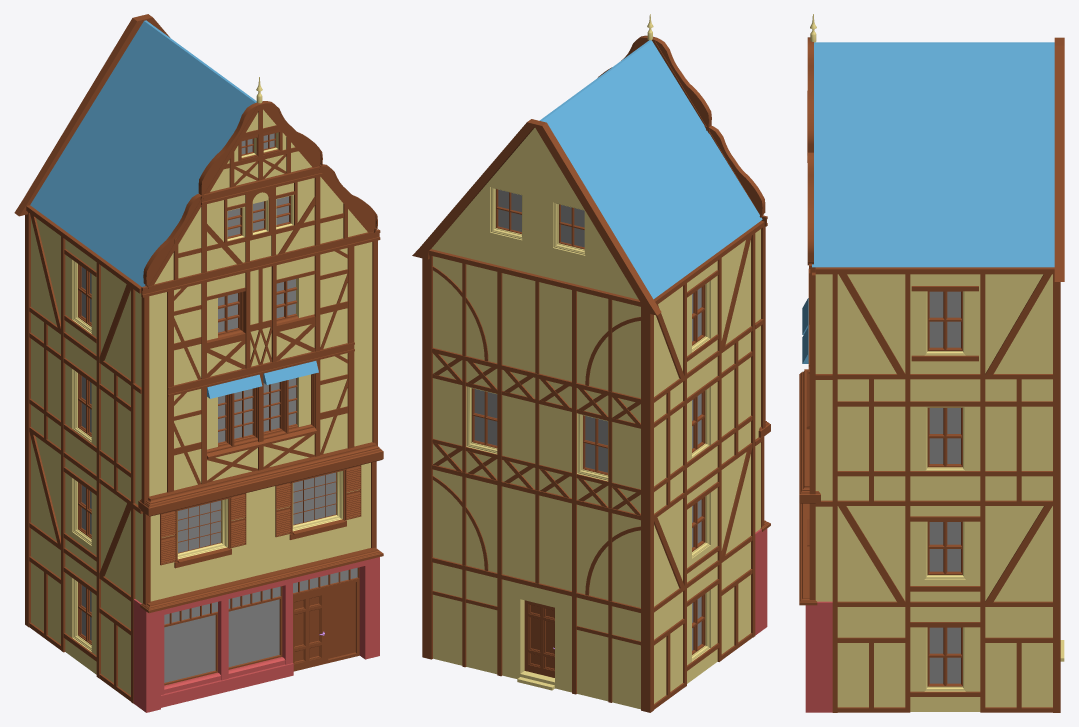
The model's file is muwu10.FBX.
3 views of the same model, side by side, from view 1: azimuth 30°, elevation 25°; view 2: azimuth 150°, elevation 25°; view 3: azimuth 270°, elevation 25° (orthographic). The views are drawn at different scales.
Visible parts, largest first — view 1: HouseMD06_PlasterYellow, HouseMD06_Wood_Beams, HouseMD06_RoofTiles, HouseMD06_Glass, HouseMD06_WoodDark (×2), HouseMD06_Stone_Stacked, HouseMD06_Mullions_Wood, HouseMD06_Cloth; view 2: HouseMD06_PlasterYellow, HouseMD06_Wood_Beams, HouseMD06_RoofTiles, HouseMD06_Glass, HouseMD06_Mullions_Wood, HouseMD06_WoodDark, HouseMD06_Stone_Stacked; view 3: HouseMD06_PlasterYellow, HouseMD06_RoofTiles, HouseMD06_Wood_Beams, HouseMD06_Glass, HouseMD06_Mullions_Wood, HouseMD06_Stone_Stacked, HouseMD06_Cloth.
Part boxes in pixels (<box>): HouseMD06_PlasterYellow: <box>31,77,372,695</box>; HouseMD06_Wood_Beams: <box>14,14,383,703</box>; HouseMD06_RoofTiles: <box>30,20,256,286</box>; HouseMD06_Glass: <box>81,133,357,682</box>; HouseMD06_WoodDark (×2): <box>160,291,361,685</box>; HouseMD06_Stone_Stacked: <box>133,557,379,712</box>; HouseMD06_Mullions_Wood: <box>78,133,336,644</box>; HouseMD06_Cloth: <box>207,361,318,398</box>; HouseMD06_PlasterYellow: <box>431,14,760,709</box>; HouseMD06_Wood_Beams: <box>412,35,770,712</box>; HouseMD06_RoofTiles: <box>539,40,762,299</box>; HouseMD06_Glass: <box>474,189,701,650</box>; HouseMD06_Mullions_Wood: <box>472,189,705,654</box>; HouseMD06_WoodDark: <box>524,600,554,677</box>; HouseMD06_Stone_Stacked: <box>755,529,767,635</box>; HouseMD06_PlasterYellow: <box>810,14,1064,711</box>; HouseMD06_RoofTiles: <box>812,42,1054,267</box>; HouseMD06_Wood_Beams: <box>799,37,1064,712</box>; HouseMD06_Glass: <box>929,291,960,683</box>; HouseMD06_Mullions_Wood: <box>927,291,962,686</box>; HouseMD06_Stone_Stacked: <box>805,601,832,712</box>; HouseMD06_Cloth: <box>802,298,808,363</box>.
Size of the model in its own units: 8.56 by 19.64 by 7.4.
